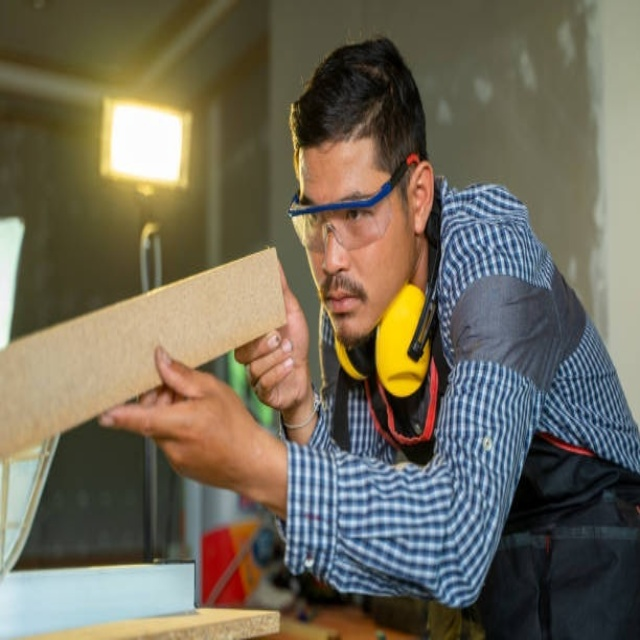Gafas: (286, 154, 419, 253)
Sin_guantes: (94, 340, 258, 497), (233, 260, 313, 421)
Sin_mascara: (317, 273, 372, 334)
